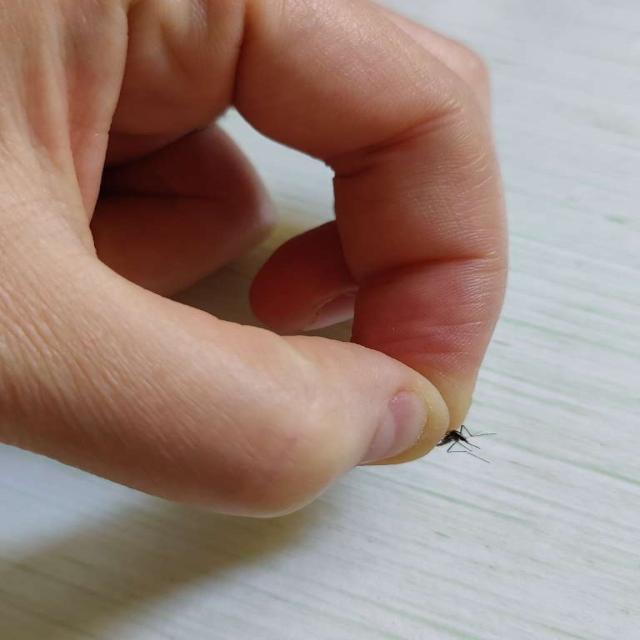albopictus: (355, 406, 497, 472)
